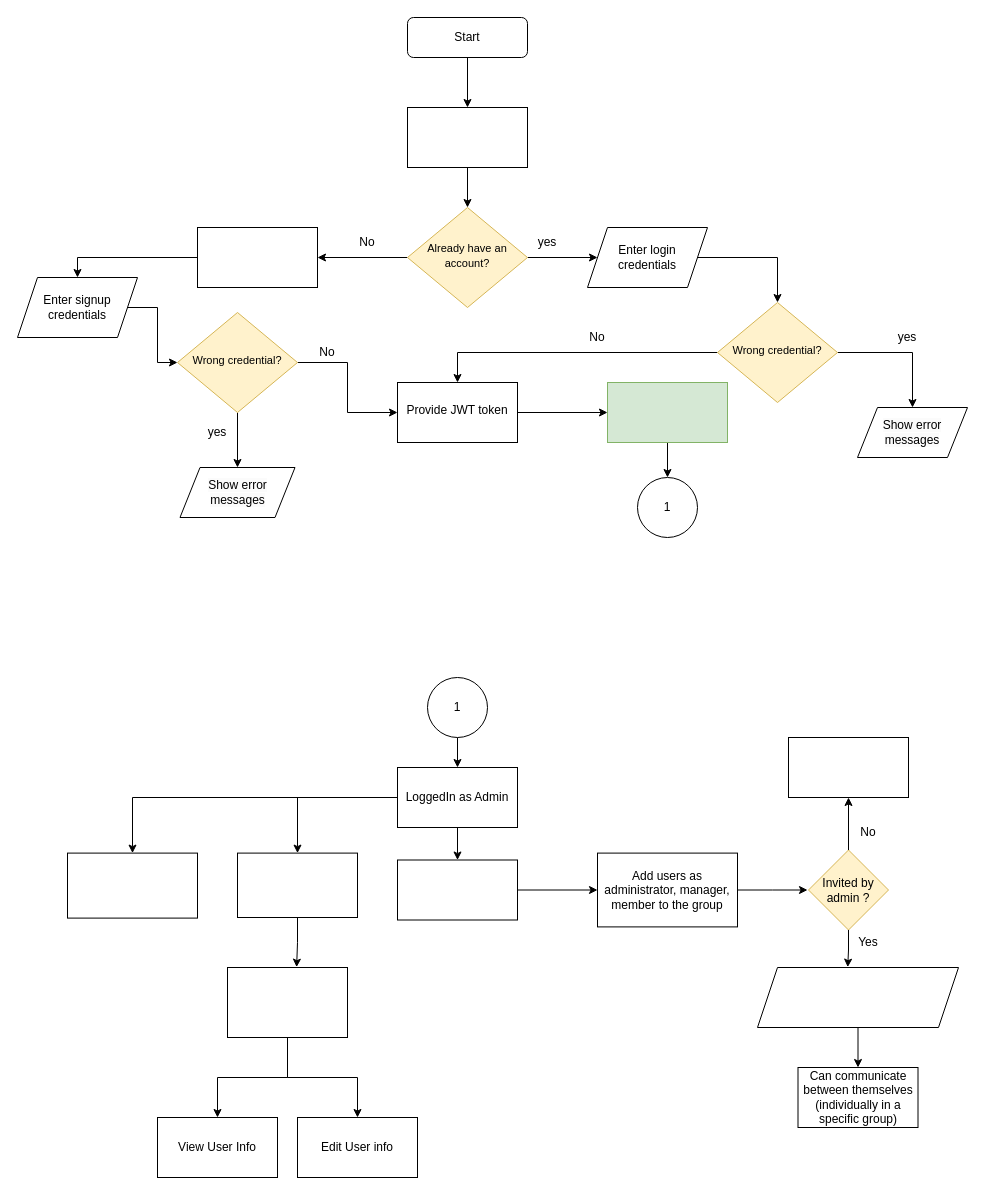
The diagram is 985 pixels wide and 1195 high, and some of its shapes have lost their labels. The centre of each missing label's shape, as x and y in pixels:
"add user with their info to database (role: false)" belongs at pixel 297 885.
"Admin Login Page" belongs at pixel 467 137.
"Can login because an admin add them to the system" belongs at pixel 287 1002.
"Can not communicate between themselves (individually in a specific group)" belongs at pixel 848 767.
"Create group/team (May have multiple group)" belongs at pixel 457 889.
"Find notification in the user dashboard to accept the invite" belongs at pixel 857 997.
"Remove user, edit users info (except admin)" belongs at pixel 132 885.
"Sign up page" belongs at pixel 257 257.
"Successfully login and onboarding admin flow" belongs at pixel 667 412.
